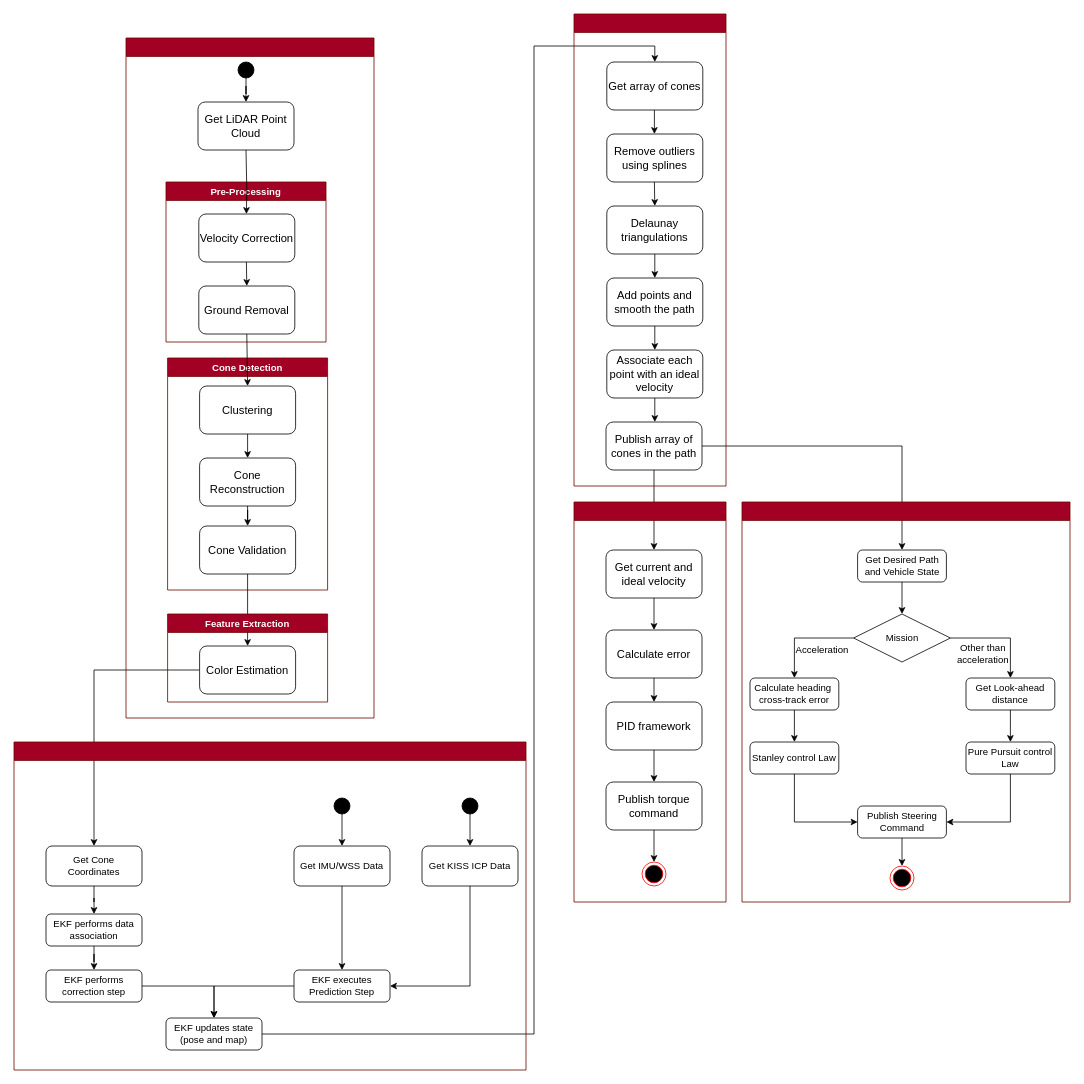
This 1084x1084 diagram has some shape labels left out. Each missing label, with the centre of its shape:
EKF SLAM: the point at 269,905
Lateral Control: the point at 905,701
Longitudinal Control: the point at 649,701
Perception: the point at 249,377
Planning: the point at 649,249
